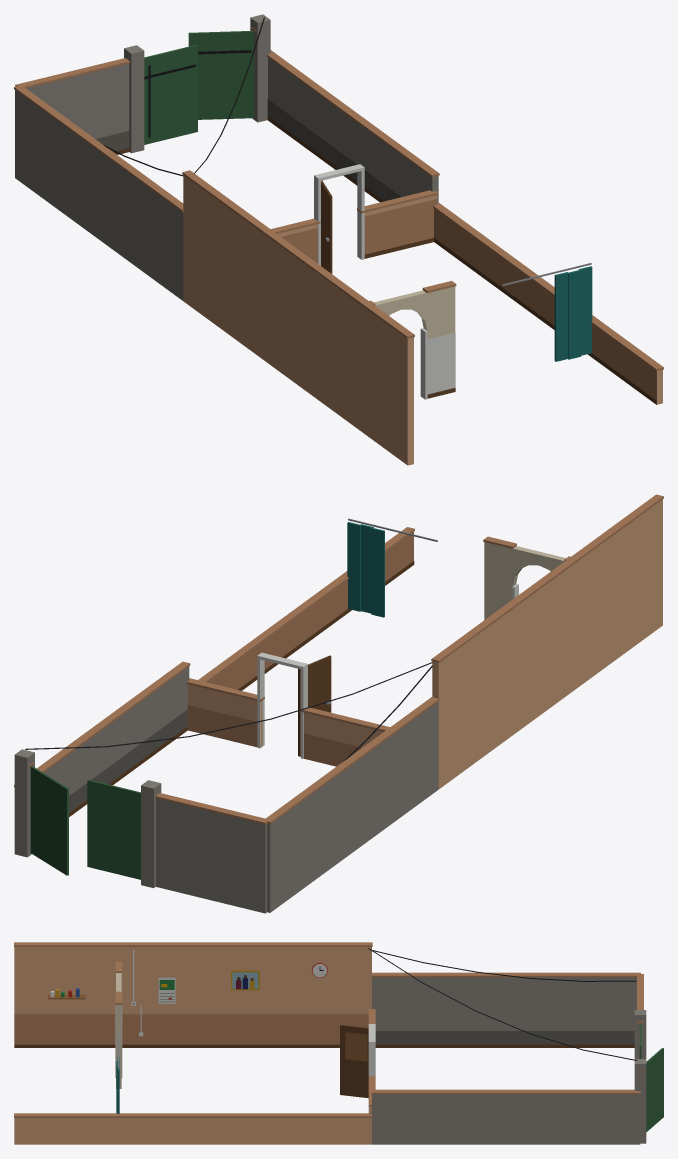
Rendered from bld_home-family.glb.
3 views of the same model, one above another, from view 1: azimuth 30°, elevation 25°; view 2: azimuth 150°, elevation 25°; view 3: azimuth 270°, elevation 25° (orthographic). The views are drawn at different scales.
Parts seen in each view (by area): view 1: body; view 2: body; view 3: body.
Part boxes in pixels (<box>): body: <box>14,14,663,465</box>; body: <box>14,494,663,913</box>; body: <box>14,942,663,1144</box>.
Size of the model in its own units: 6.34 by 3.05 by 17.44.
